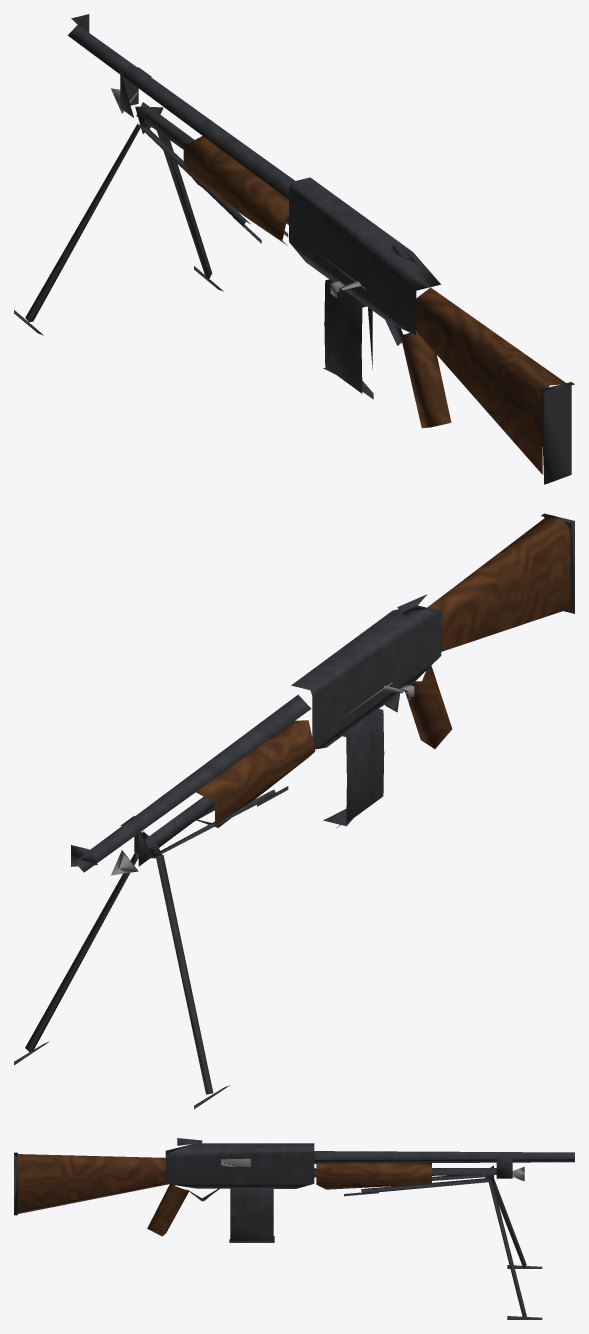
Rendered from m01_rkm_wz28_lod2.glb.
3 views of the same model, one above another, from view 1: azimuth 30°, elevation 25°; view 2: azimuth 150°, elevation 25°; view 3: azimuth 270°, elevation 25° (orthographic). The views are drawn at different scales.
Visible parts, largest first — view 1: rkm_body, rkm_magazine, rkm_bipod_open, rkm_bipod_folded; view 2: rkm_body, rkm_bipod_open, rkm_magazine, rkm_bipod_folded; view 3: rkm_body, rkm_magazine, rkm_bipod_open, rkm_bipod_folded.
Boxes of the visible parts, x1=… form: rkm_body: x1=68, y1=14, x2=574, y2=484; rkm_magazine: x1=323, y1=279, x2=373, y2=399; rkm_bipod_open: x1=14, y1=123, x2=223, y2=335; rkm_bipod_folded: x1=137, y1=124, x2=288, y2=243; rkm_body: x1=71, y1=513, x2=574, y2=875; rkm_bipod_open: x1=14, y1=852, x2=229, y2=1109; rkm_magazine: x1=323, y1=709, x2=384, y2=828; rkm_bipod_folded: x1=155, y1=786, x2=288, y2=854; rkm_body: x1=14, y1=1138, x2=574, y2=1236; rkm_magazine: x1=229, y1=1188, x2=274, y2=1242; rkm_bipod_open: x1=488, y1=1179, x2=542, y2=1319; rkm_bipod_folded: x1=344, y1=1175, x2=489, y2=1196.
Bounding box in the file's own units: 0.2532 × 0.3385 × 1.12.
Materials: 1 (1 with a texture image).
